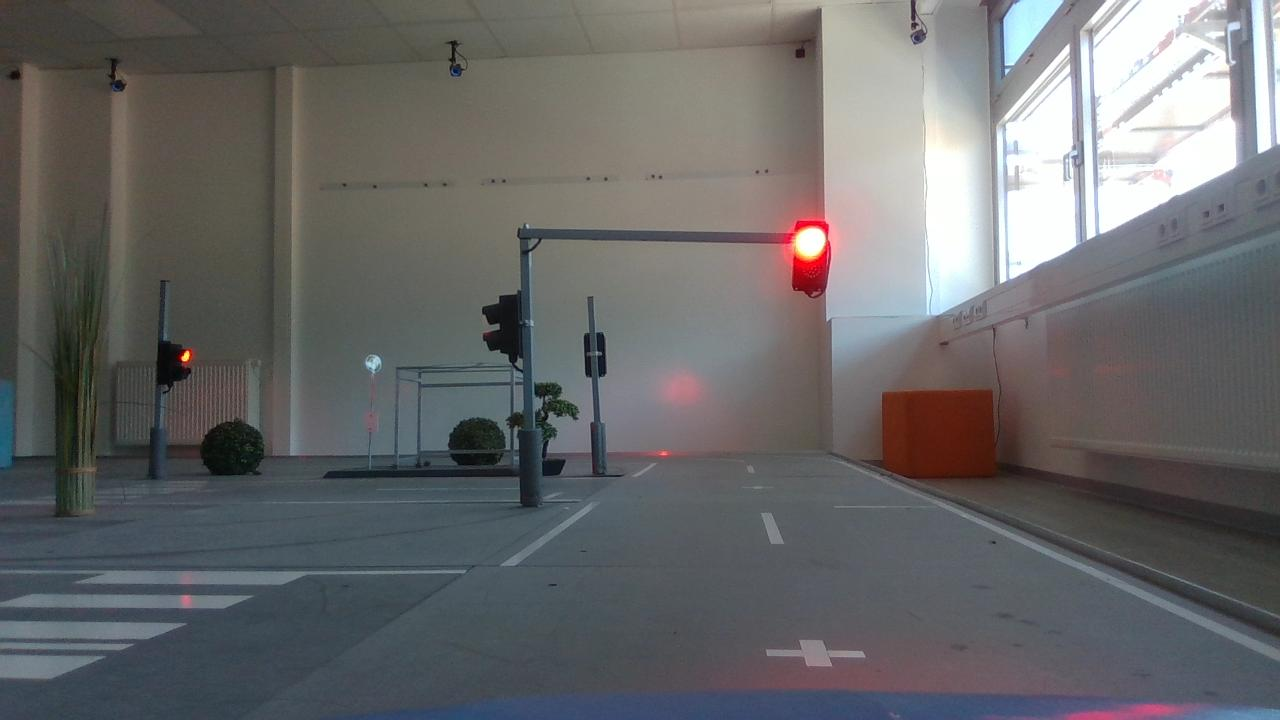traffic_light_red: (785, 211, 838, 308)
